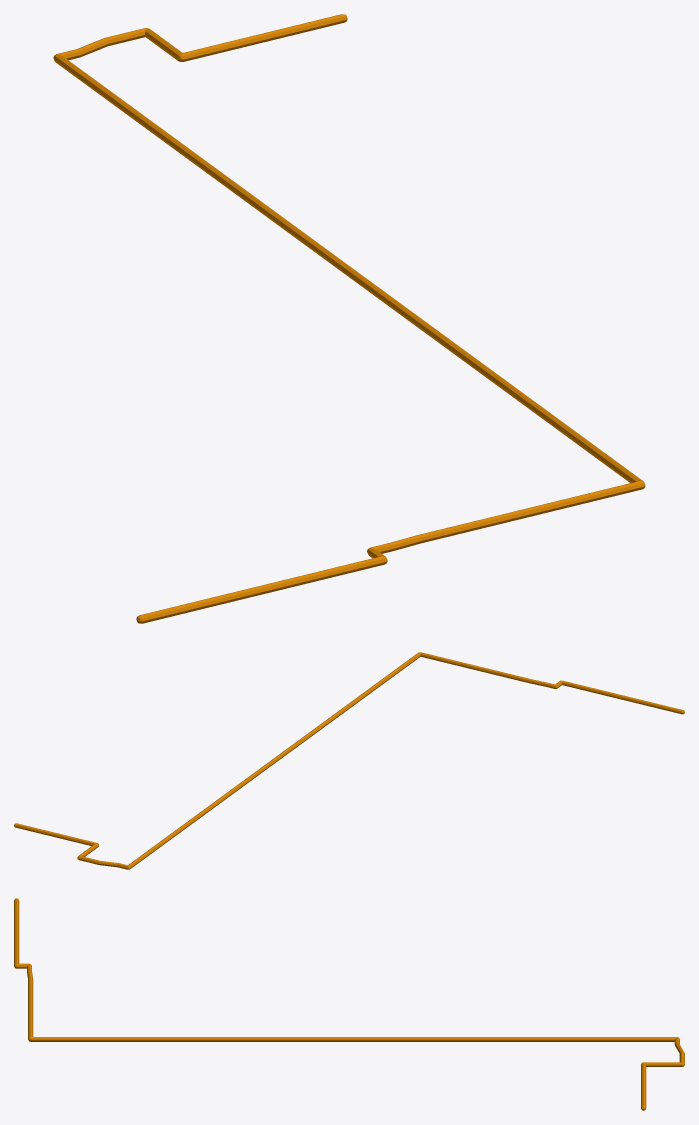
3 views of the same model, one above another, from view 1: azimuth 30°, elevation 25°; view 2: azimuth 150°, elevation 25°; view 3: azimuth 270°, elevation 25° (orthographic). The views are drawn at different scales.
Bounding box in the file's own units: 1920 × 20 × 2594.
